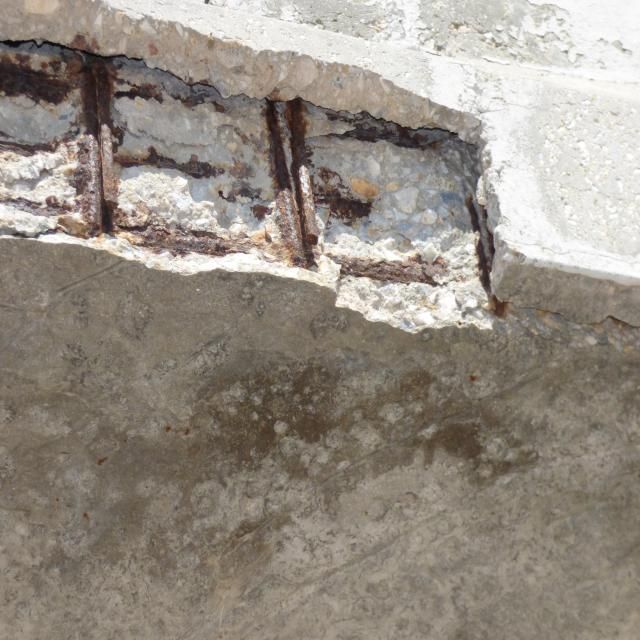corrosion: (0, 13, 510, 320)
